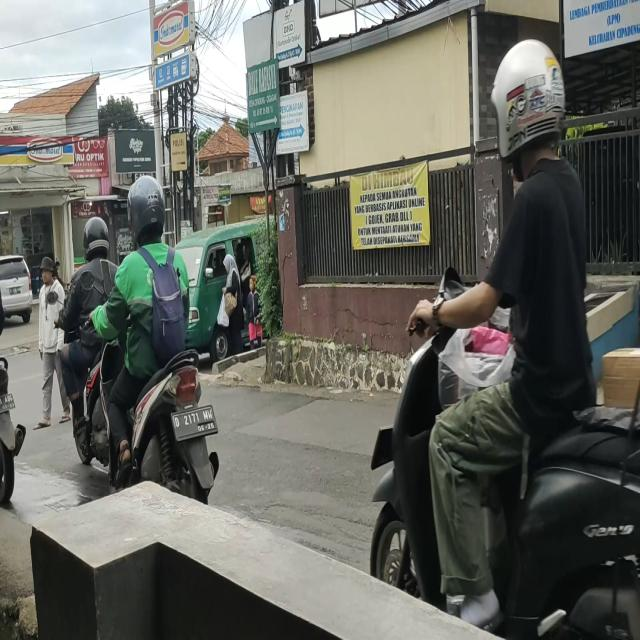helmet: (498, 35, 563, 157), (128, 174, 168, 244), (84, 212, 108, 264)
